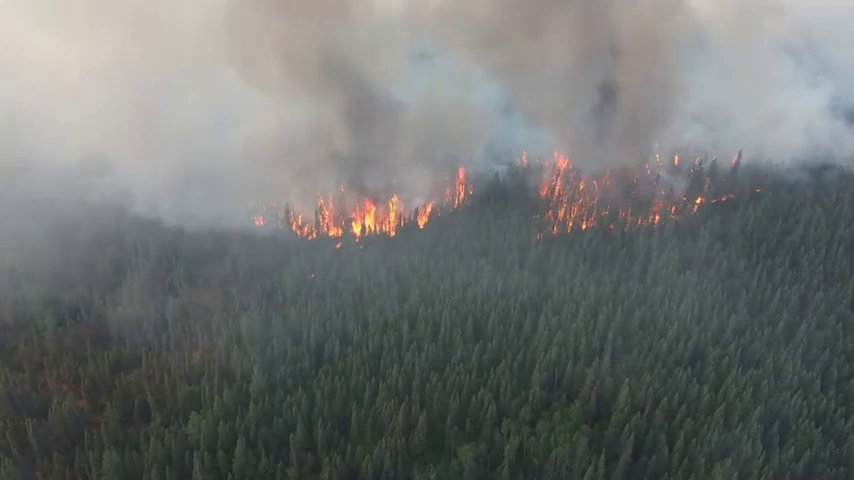forest_fire: (514, 152, 739, 234), (250, 167, 472, 240)
